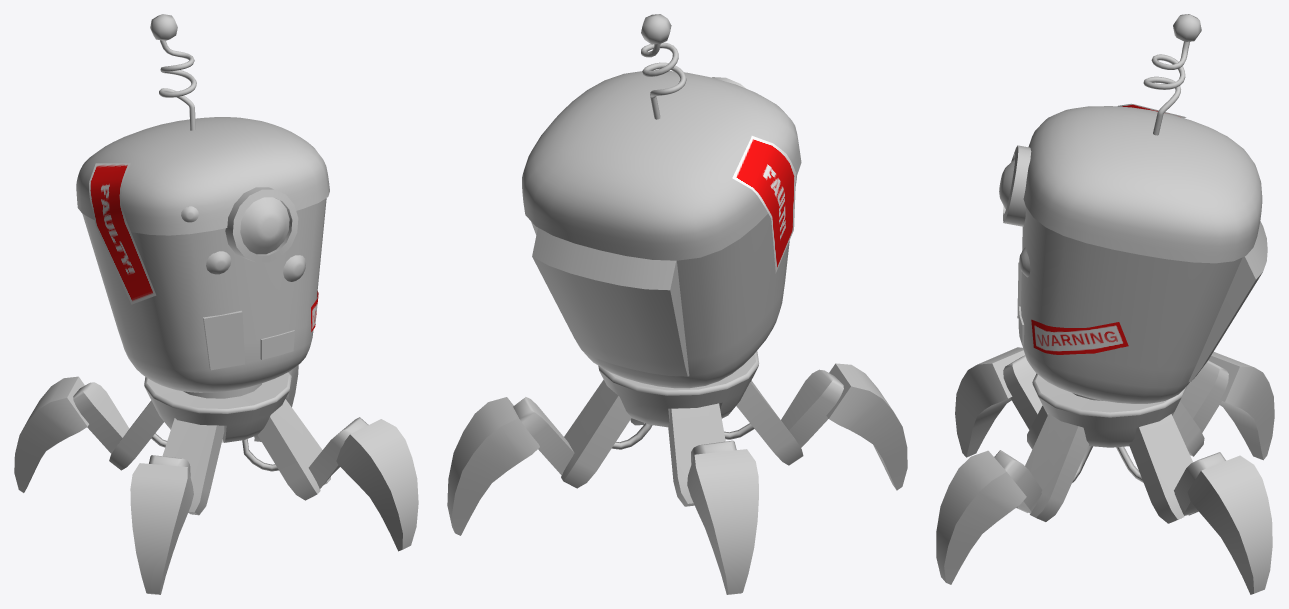
The model's file is bot.fbx.
3 views of the same model, side by side, from view 1: azimuth 30°, elevation 25°; view 2: azimuth 150°, elevation 25°; view 3: azimuth 270°, elevation 25° (orthographic). The views are drawn at different scales.
Visible parts, largest first — view 1: Cube, Cube.007, Cube.005, Cube.006, Cylinder.002, Plane, Cylinder.001, Cube.002, Cylinder, Cube.003; view 2: Cube, Cube.004, Cube.006, Cube.005, Cylinder.002, Plane, Cube.003; view 3: Cube, Cube.004, Cube.007, Cube.006, Cube.005, Cylinder.002, Plane, Cube.003, Cylinder, Cylinder.001.
Part boxes in pixels (box(x1,y1,x2,y2)): Cube: box(76, 117, 329, 392); Cube.007: box(257, 399, 418, 551); Cube.005: box(130, 418, 224, 594); Cube.006: box(14, 376, 163, 492); Cylinder.002: box(144, 372, 291, 442); Plane: box(89, 163, 318, 331); Cylinder.001: box(181, 197, 305, 281); Cube.002: box(203, 310, 294, 370); Cylinder: box(225, 187, 298, 262); Cube.003: box(150, 14, 196, 130); Cube: box(522, 71, 801, 388); Cube.004: box(447, 379, 631, 535); Cube.006: box(668, 403, 758, 594); Cube.005: box(736, 363, 907, 490); Cylinder.002: box(598, 351, 759, 427); Plane: box(732, 136, 796, 273); Cube.003: box(641, 14, 686, 119); Cube: box(1020, 106, 1267, 403); Cube.004: box(1129, 414, 1272, 594); Cube.007: box(936, 414, 1088, 584); Cube.006: box(1172, 352, 1274, 460); Cube.005: box(955, 347, 1047, 457); Cylinder.002: box(1032, 373, 1186, 447); Plane: box(1031, 103, 1186, 354); Cube.003: box(1143, 14, 1201, 135); Cylinder: box(1003, 145, 1031, 226); Cylinder.001: box(999, 129, 1036, 277).
Bounding box in the file's own units: 363 × 580 × 353.
